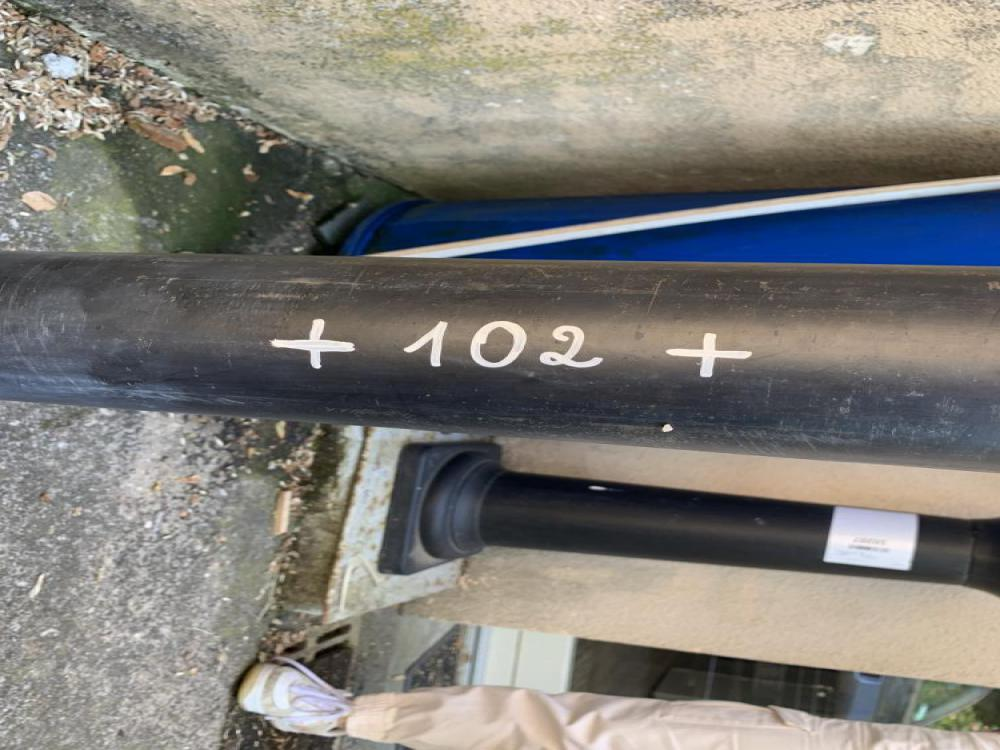+: (272, 318, 356, 368), (667, 332, 753, 379)
0: (470, 320, 528, 369)
1: (401, 321, 450, 368)
2: (539, 326, 603, 369)
